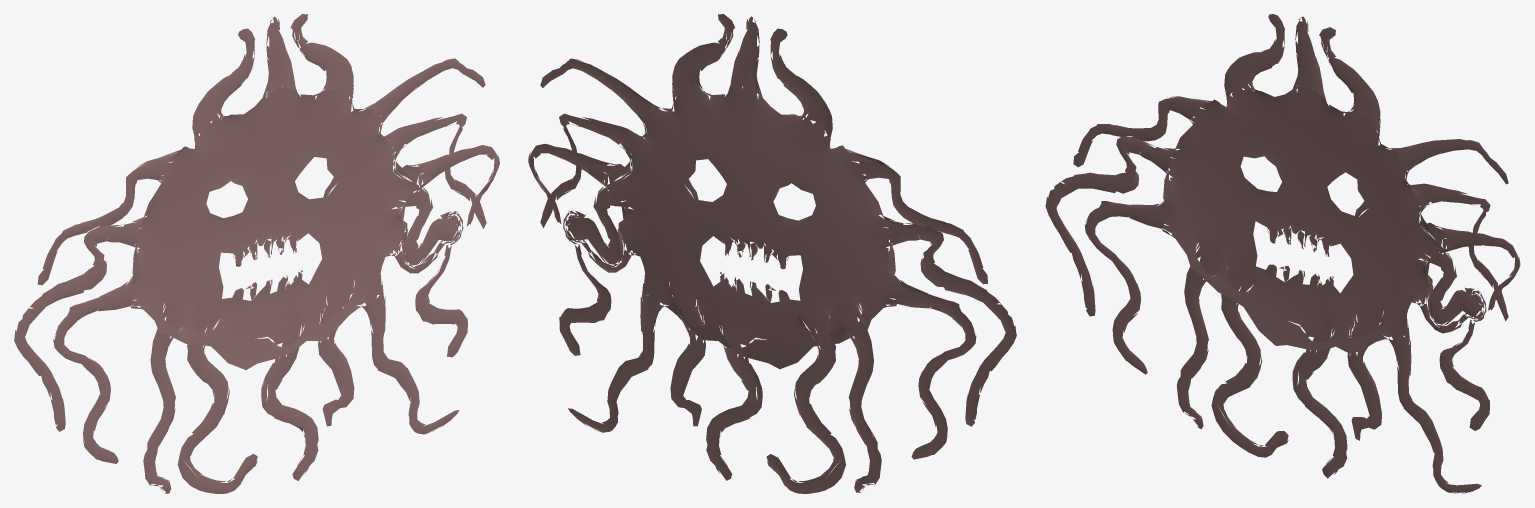
File: shadow_siluette.glb
The picture shows the model from 3 angles, left to right: view 1: azimuth 30°, elevation 25°; view 2: azimuth 150°, elevation 25°; view 3: azimuth 330°, elevation 25°; orthographic projection. The views are drawn at different scales.
Parts seen in each view (by area): view 1: sahdow_silluete; view 2: sahdow_silluete; view 3: sahdow_silluete.
Boxes of the visible parts, x1,y1,x2,y2 form: sahdow_silluete: (14, 14, 499, 493); sahdow_silluete: (528, 14, 1016, 493); sahdow_silluete: (1045, 14, 1520, 493).
Bounding box in the file's own units: 0.5176 × 0.4775 × 0.00989.
